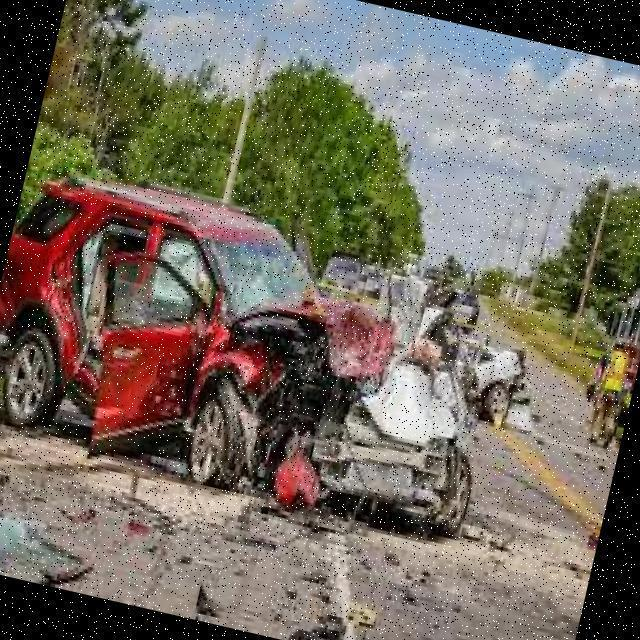accident: (0, 141, 530, 552)
